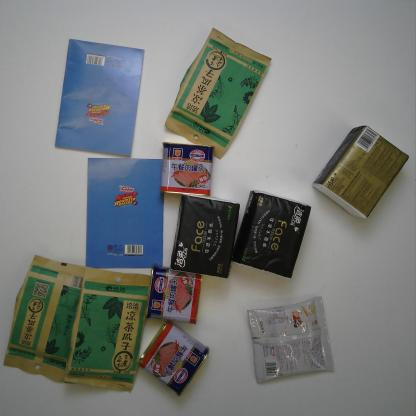Canned Food: (138, 318, 210, 398), (145, 263, 203, 325), (159, 141, 216, 197)
Dried Food: (163, 27, 273, 161), (3, 253, 94, 383), (63, 266, 152, 393)
Instant Drink: (246, 295, 336, 384)
Stationery: (54, 38, 146, 157), (84, 157, 164, 269)
Tissue: (311, 124, 411, 220), (231, 188, 312, 280), (169, 193, 241, 280)
